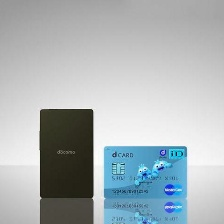book: (33, 105, 97, 200), (101, 143, 188, 201)
